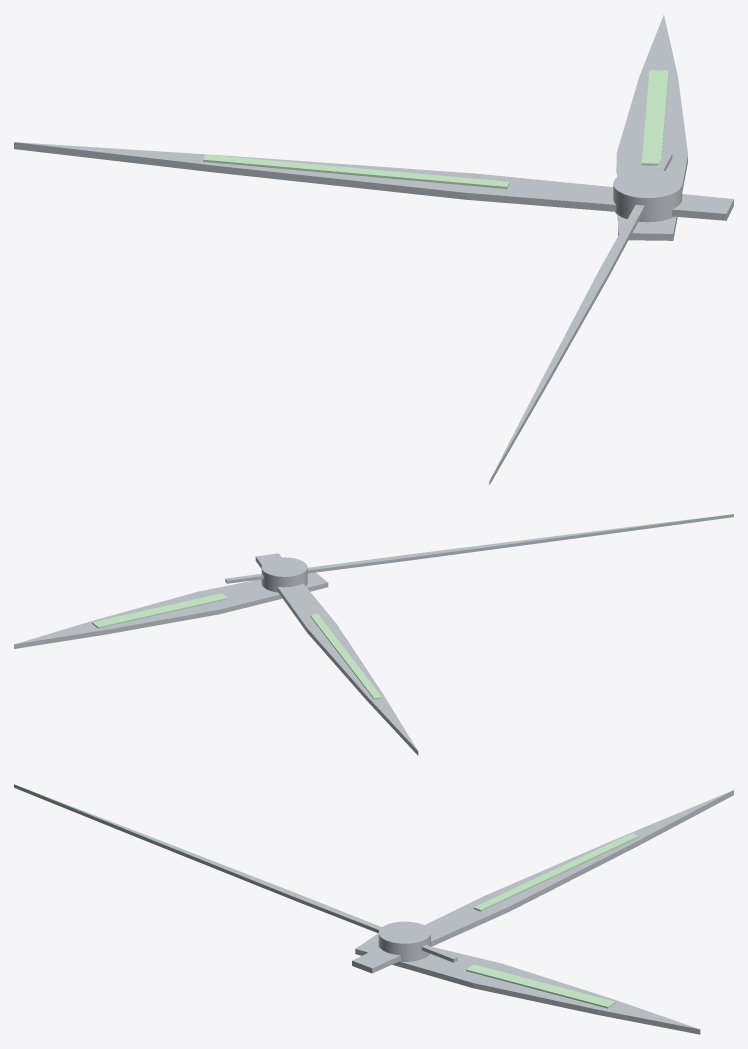
File: hands-cathedral-42.glb
3 renders of one model, top to bottom at view 1: azimuth 30°, elevation 25°; view 2: azimuth 150°, elevation 25°; view 3: azimuth 270°, elevation 25°, orthographic. The views are drawn at different scales.
Visible parts, largest first — view 1: DD_HAND_MINUTE, DD_HAND_HOUR, DD_HAND_SECONDS, DD_HAND_HUB, DD_HAND_MINUTE_LUME, DD_HAND_HOUR_LUME; view 2: DD_HAND_HOUR, DD_HAND_MINUTE, DD_HAND_SECONDS, DD_HAND_HUB, DD_HAND_HOUR_LUME, DD_HAND_MINUTE_LUME; view 3: DD_HAND_MINUTE, DD_HAND_HOUR, DD_HAND_SECONDS, DD_HAND_HUB, DD_HAND_HOUR_LUME, DD_HAND_MINUTE_LUME.
Part boxes in pixels (x1,y1,x2,y2): DD_HAND_MINUTE: [14, 142, 733, 220]; DD_HAND_HOUR: [616, 15, 687, 240]; DD_HAND_SECONDS: [489, 153, 672, 485]; DD_HAND_HUB: [613, 169, 682, 222]; DD_HAND_MINUTE_LUME: [203, 154, 509, 188]; DD_HAND_HOUR_LUME: [641, 70, 668, 165]; DD_HAND_HOUR: [14, 572, 328, 648]; DD_HAND_MINUTE: [255, 553, 418, 755]; DD_HAND_SECONDS: [225, 514, 733, 583]; DD_HAND_HUB: [261, 557, 307, 592]; DD_HAND_HOUR_LUME: [92, 593, 227, 628]; DD_HAND_MINUTE_LUME: [310, 613, 381, 699]; DD_HAND_MINUTE: [352, 790, 733, 973]; DD_HAND_HOUR: [355, 934, 700, 1034]; DD_HAND_SECONDS: [14, 784, 457, 962]; DD_HAND_HUB: [378, 921, 430, 961]; DD_HAND_HOUR_LUME: [466, 964, 615, 1008]; DD_HAND_MINUTE_LUME: [473, 833, 638, 911].
Bounding box in the file's own units: 14.21 × 0.685 × 18.59.
